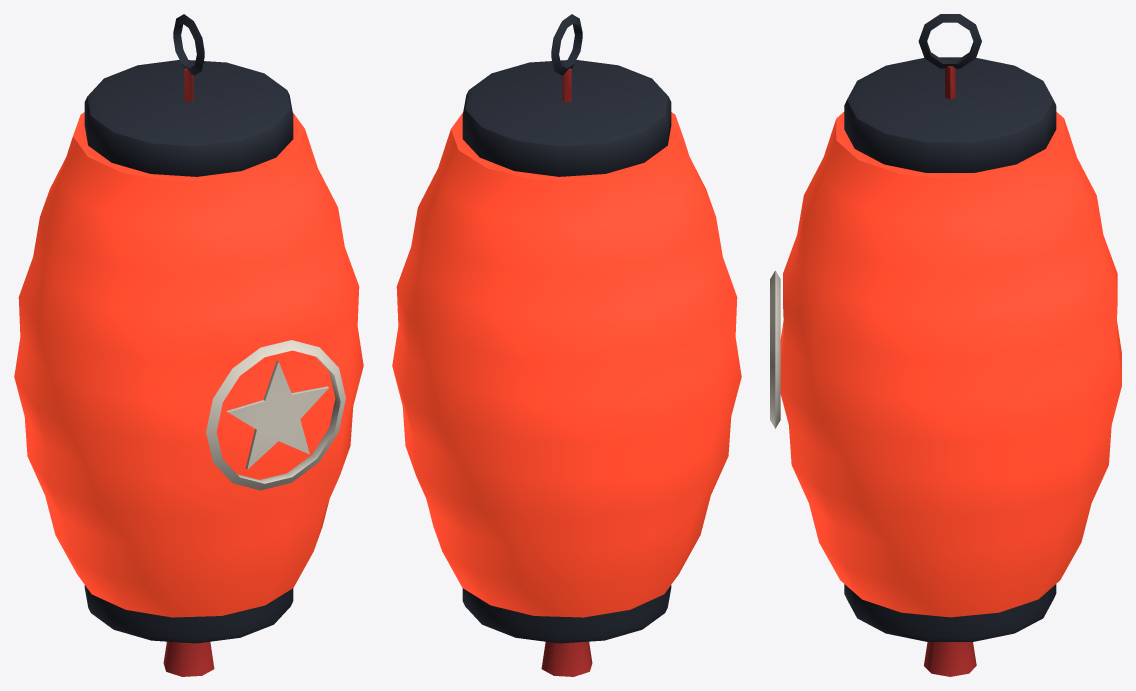
File: noren-lantern.glb
The picture shows the model from 3 angles, left to right: view 1: azimuth 30°, elevation 25°; view 2: azimuth 150°, elevation 25°; view 3: azimuth 270°, elevation 25°; orthographic projection.
Parts seen in each view (by area): view 1: Noren lantern Lantern glow, Noren lantern Lacquer, Noren lantern Cream paint, Noren lantern Rope; view 2: Noren lantern Lantern glow, Noren lantern Lacquer, Noren lantern Rope; view 3: Noren lantern Lantern glow, Noren lantern Lacquer, Noren lantern Rope, Noren lantern Cream paint.
Part boxes in pixels (<box>): Noren lantern Lantern glow: <box>14,112,363,617</box>; Noren lantern Lacquer: <box>84,14,293,643</box>; Noren lantern Cream paint: <box>206,340,345,490</box>; Noren lantern Rope: <box>163,68,214,676</box>; Noren lantern Lantern glow: <box>392,112,741,617</box>; Noren lantern Lacquer: <box>462,14,671,643</box>; Noren lantern Rope: <box>541,68,592,676</box>; Noren lantern Lantern glow: <box>780,112,1121,617</box>; Noren lantern Lacquer: <box>844,14,1056,641</box>; Noren lantern Rope: <box>924,66,976,676</box>; Noren lantern Cream paint: <box>770,270,780,428</box>.
Bounding box in the file's own units: 0.3987 × 0.8192 × 0.3984.
